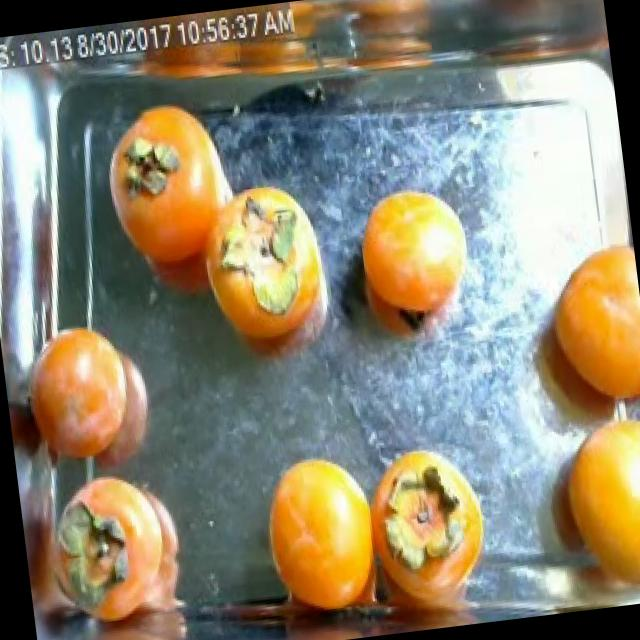Fruit: (1, 298, 179, 502), (87, 79, 246, 278), (242, 433, 398, 632), (342, 166, 494, 352)
